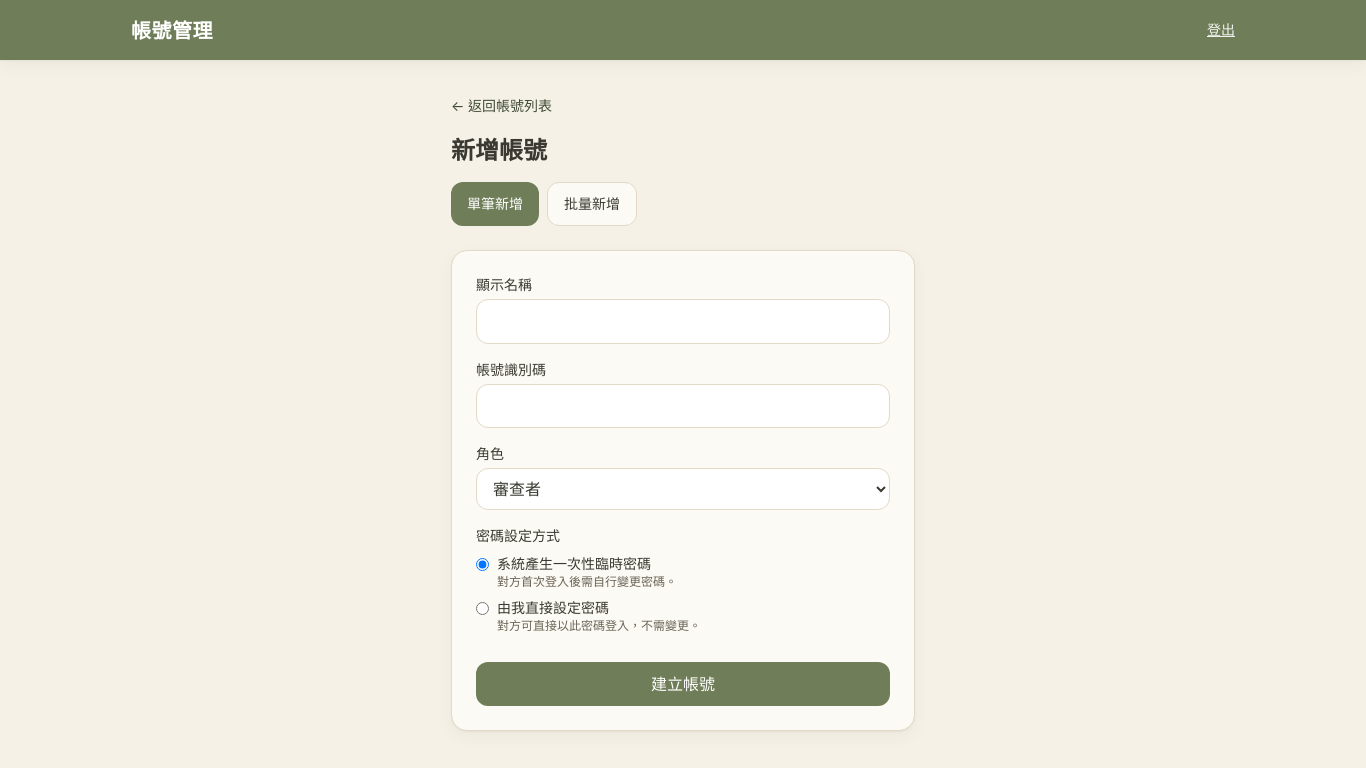
AccountCreatePage — batch create › submits the batch and shows per-row results including the temp password
Click the tab "批量新增" at (592, 204), box top-left (547, 182), bottom-right (637, 226)
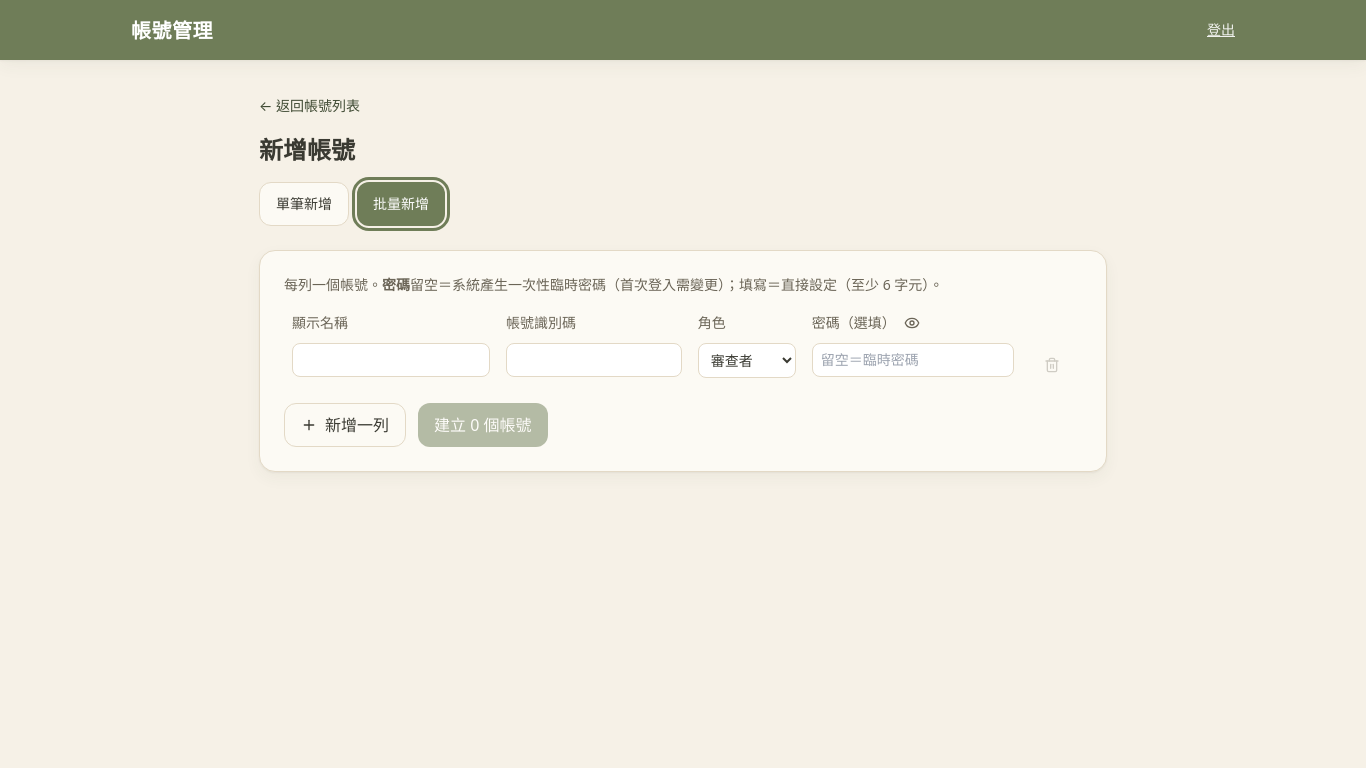
Type "甲醫師" into the field named "第 1 列 顯示名稱" at (391, 360), box top-left (292, 343), bottom-right (490, 377)
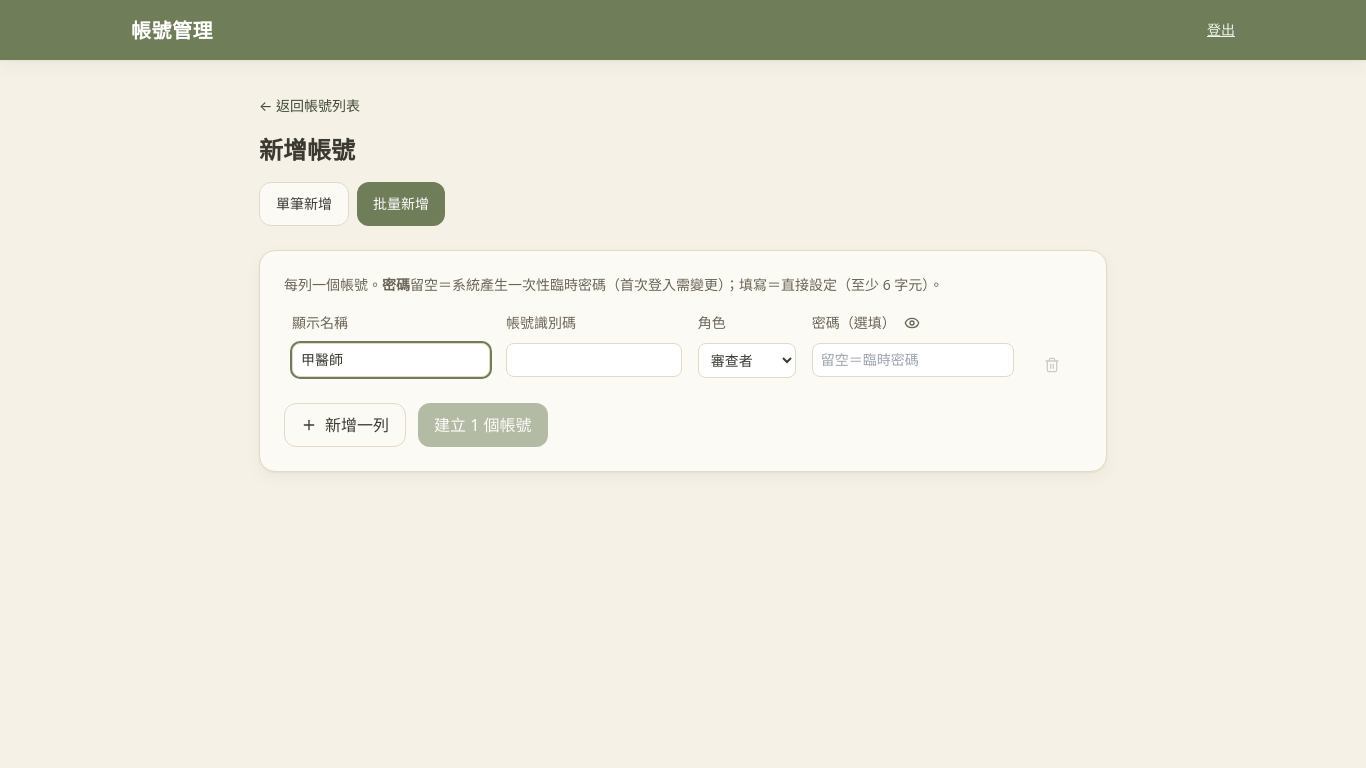
Type "dr.a" into the field named "第 1 列 帳號識別碼" at (594, 360), box top-left (506, 343), bottom-right (682, 377)
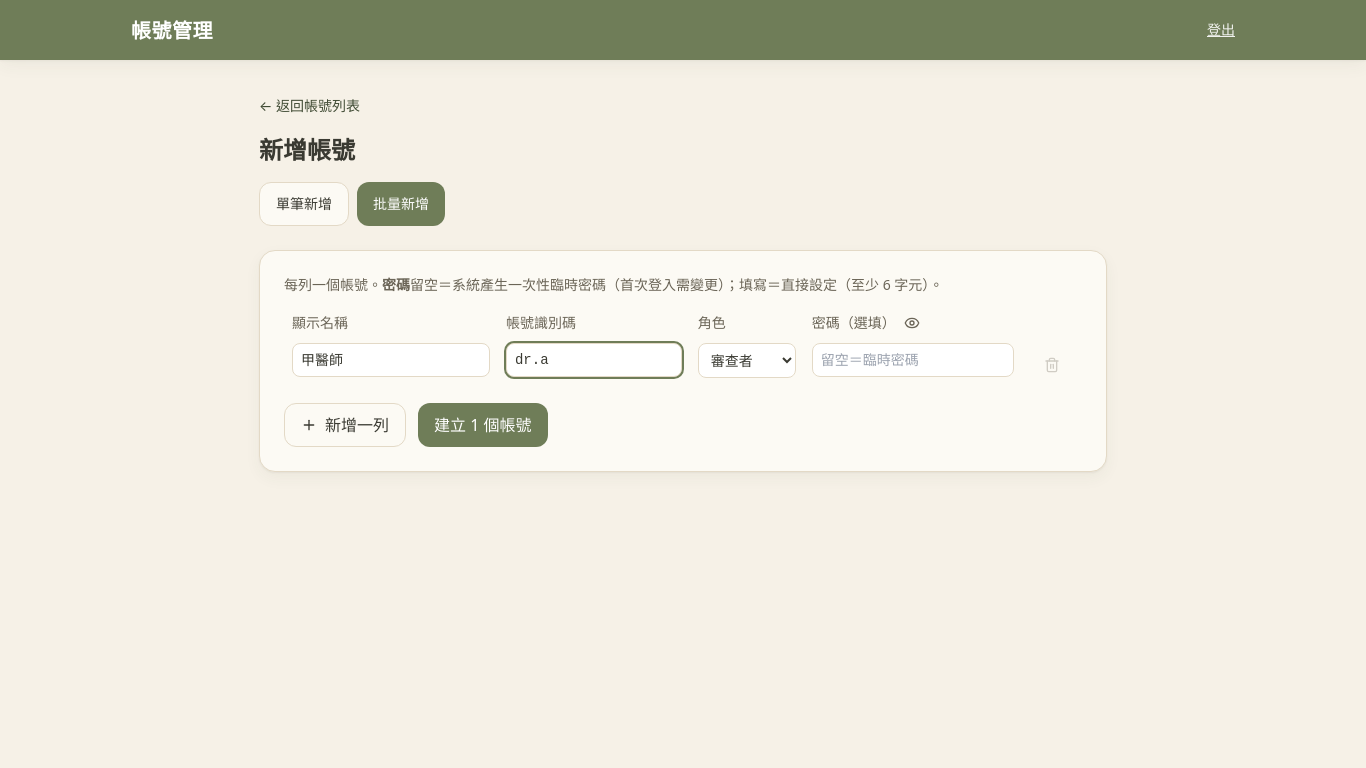
Click the button "建立 1 個帳號" at (483, 425), box top-left (418, 403), bottom-right (548, 447)
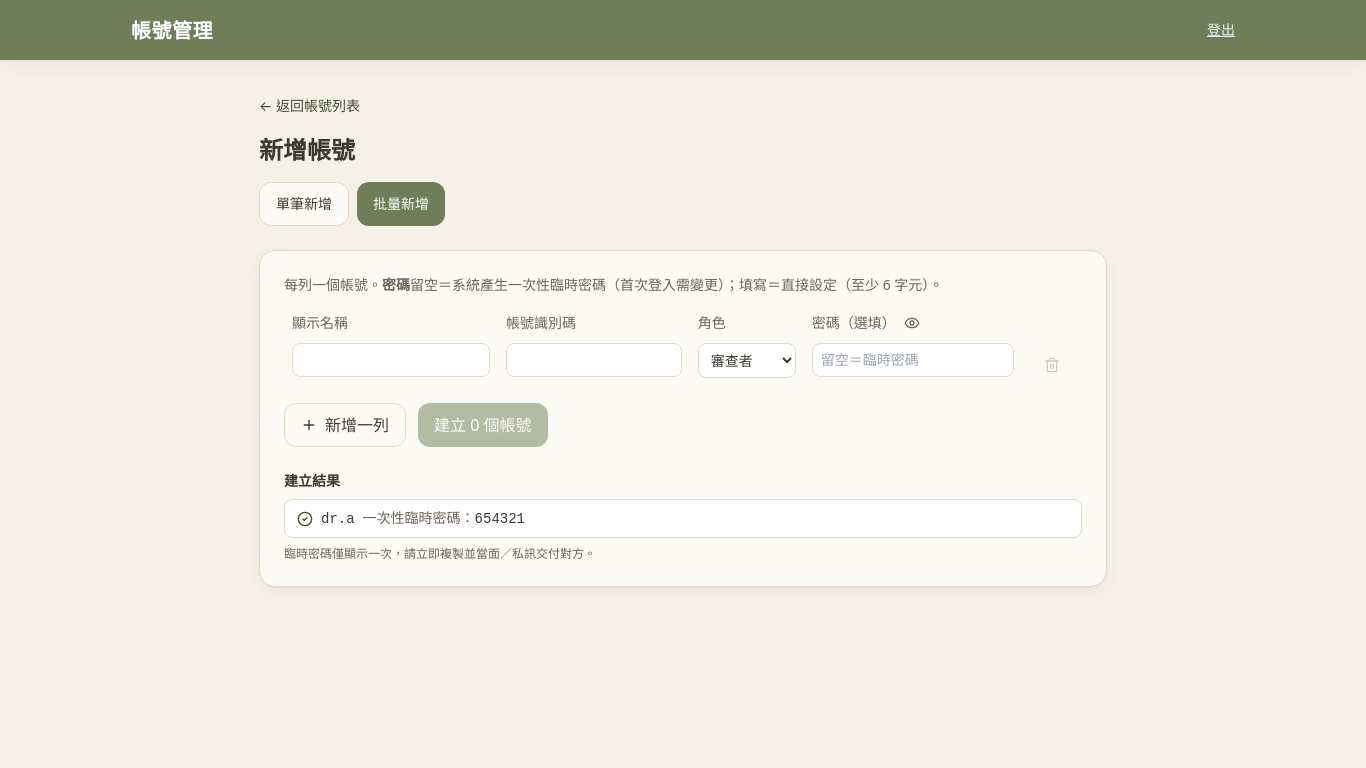
Expected: the heading "建立結果" is shown, top-left (284, 471), bottom-right (340, 490)
Expected: the text "dr.a" is shown, top-left (321, 509), bottom-right (355, 529)
Expected: the text "654321" is shown, top-left (475, 511), bottom-right (525, 527)
